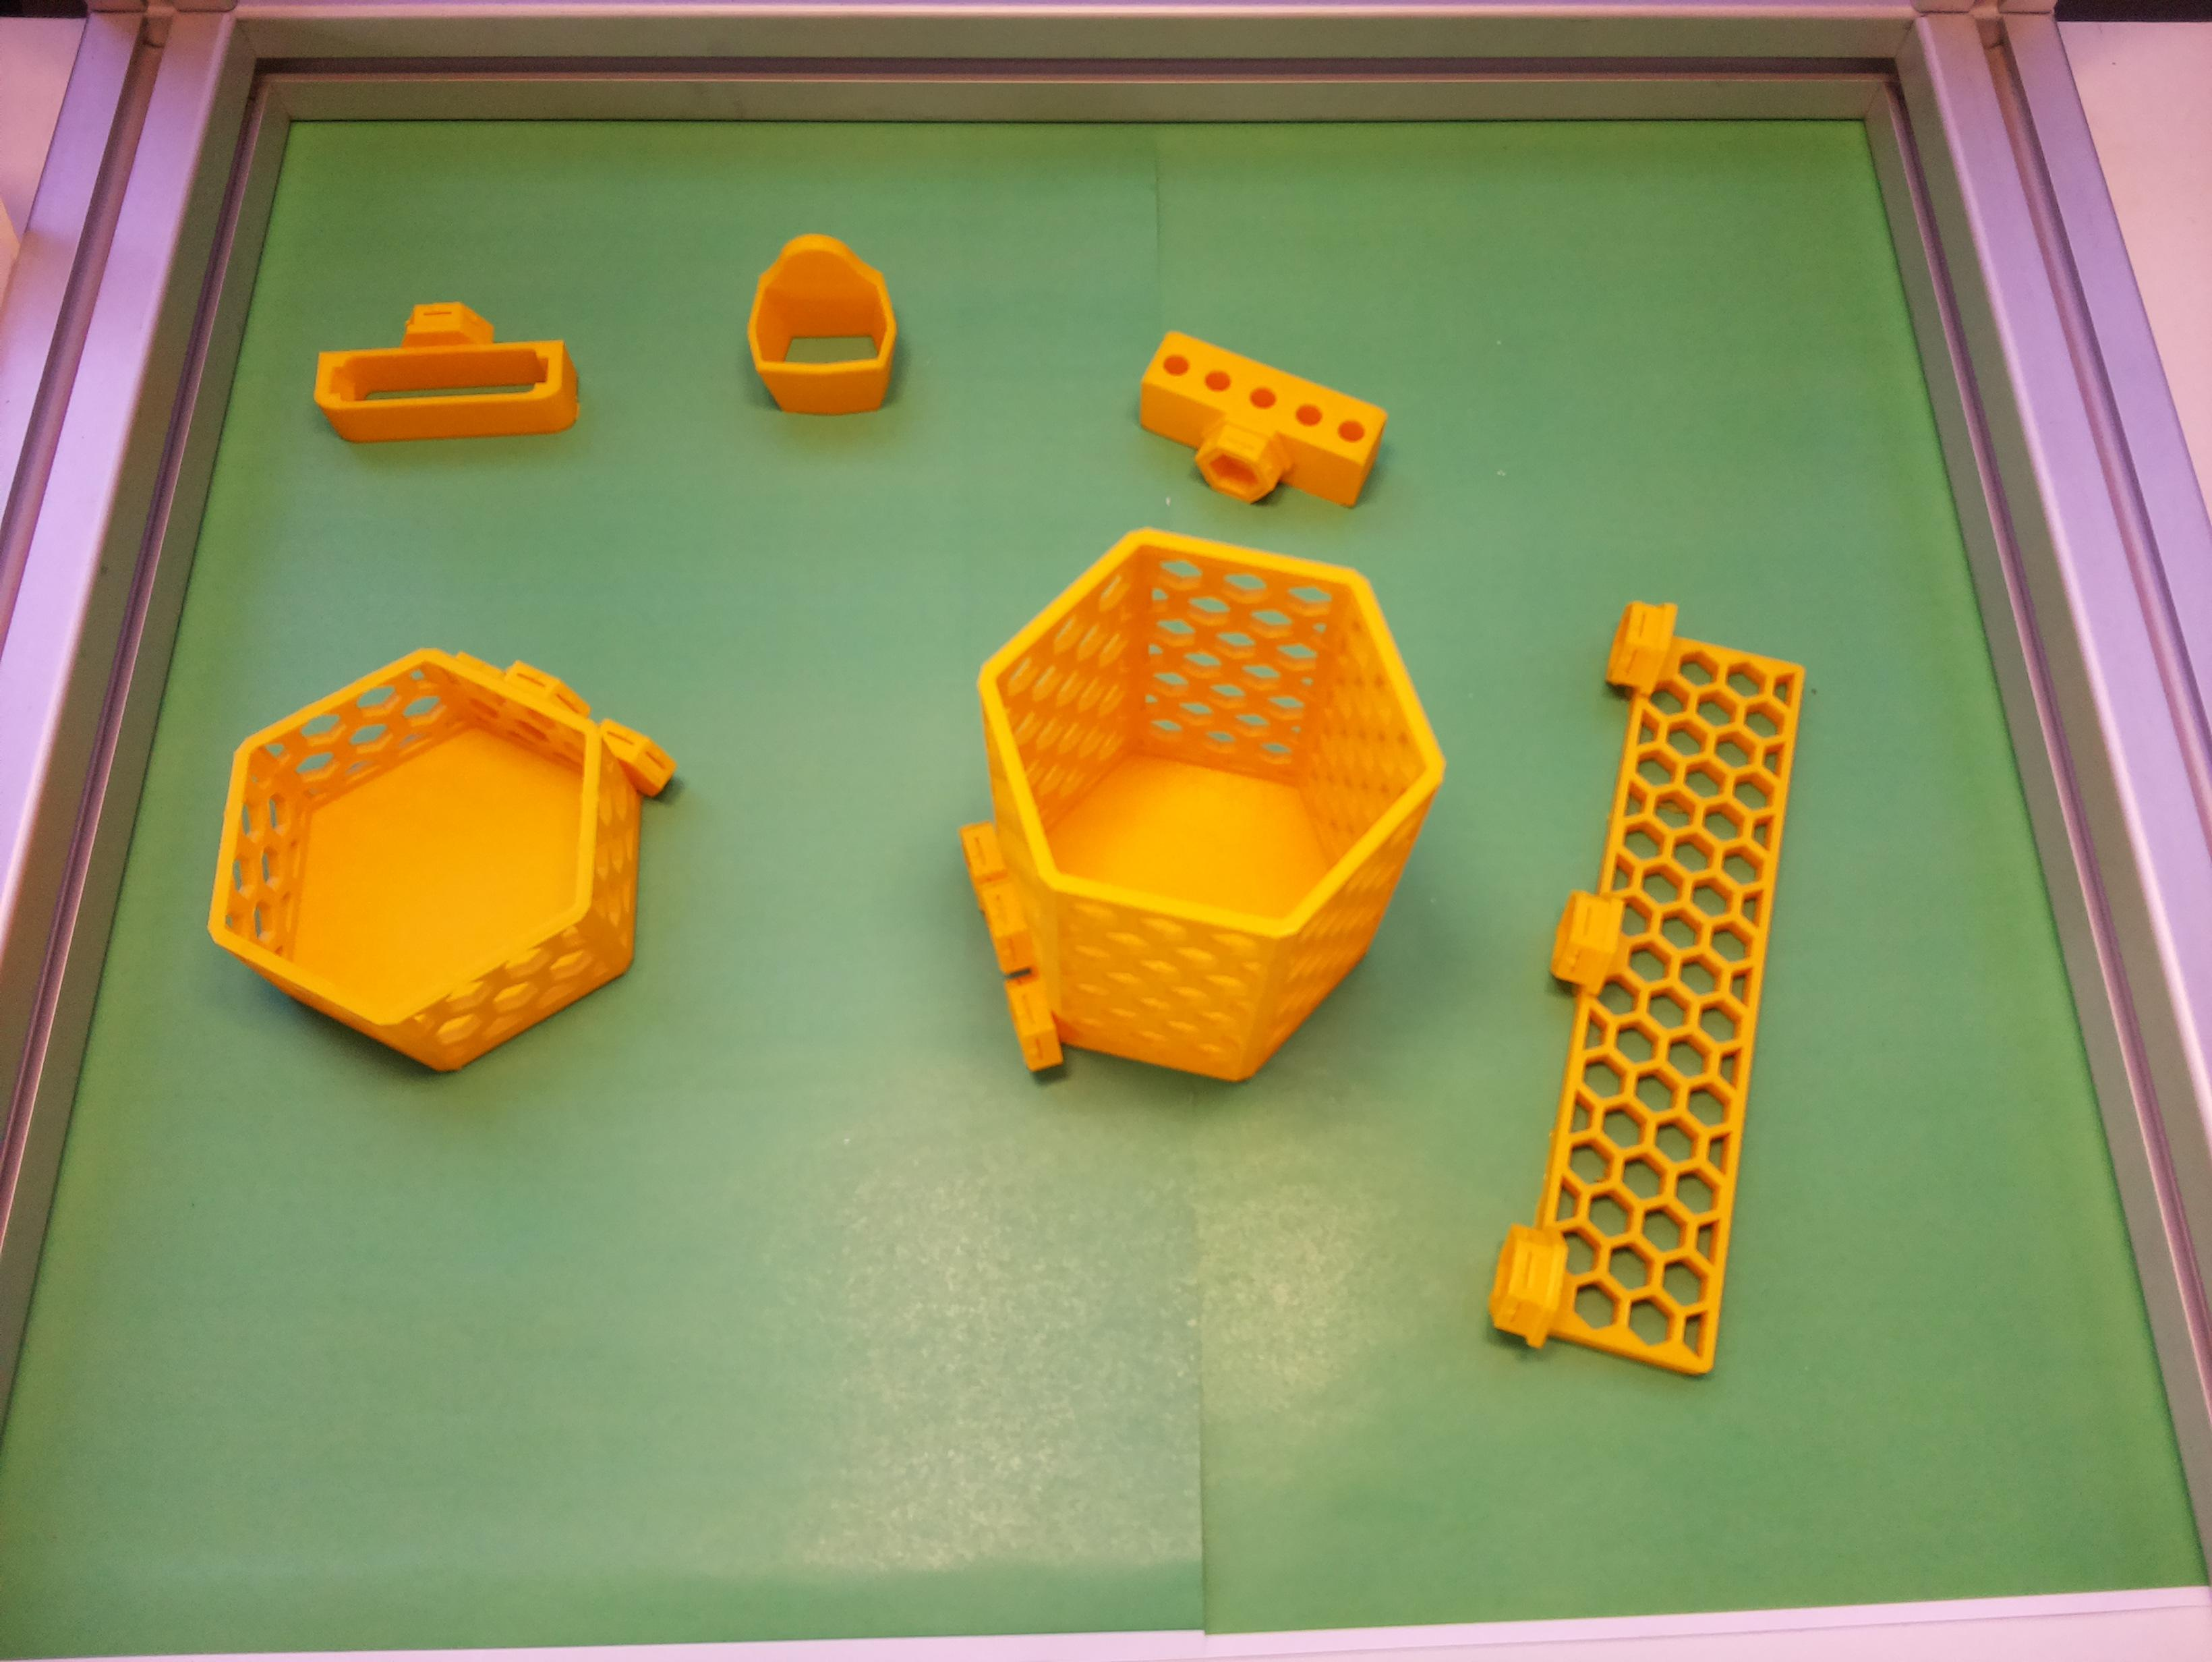bit_holder: (1116, 326, 1391, 538)
bottle_holder: (176, 606, 690, 1107)
cup_holder: (946, 519, 1458, 1096)
cutter_holder: (311, 295, 580, 445)
scissor_holder: (737, 227, 910, 426)
tool_holder: (1484, 594, 1810, 1377)
